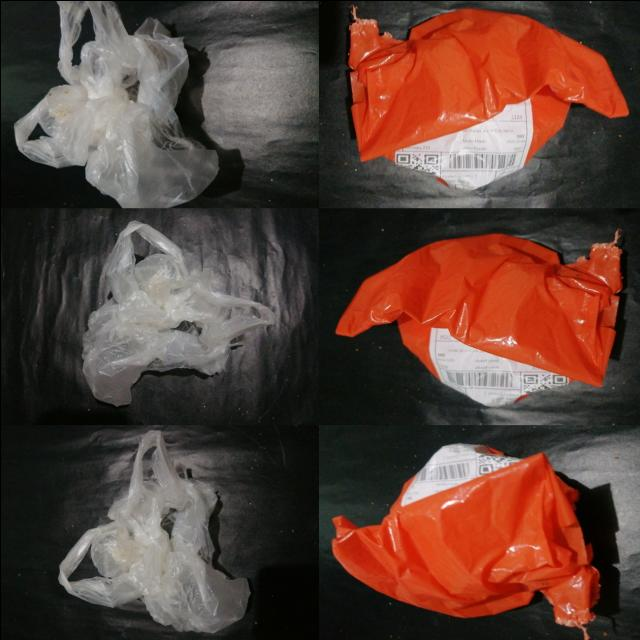plastik: (332, 443, 599, 638), (348, 8, 628, 190), (336, 231, 621, 406), (14, 0, 217, 206), (57, 429, 249, 632), (81, 220, 273, 405)
